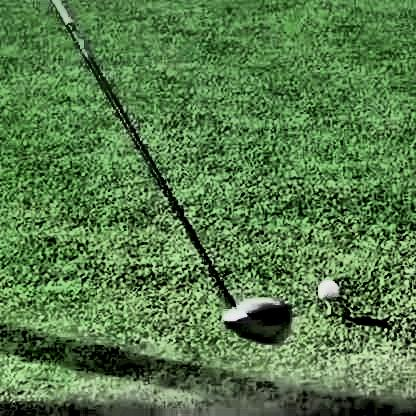golfball: (315, 276, 337, 298)
